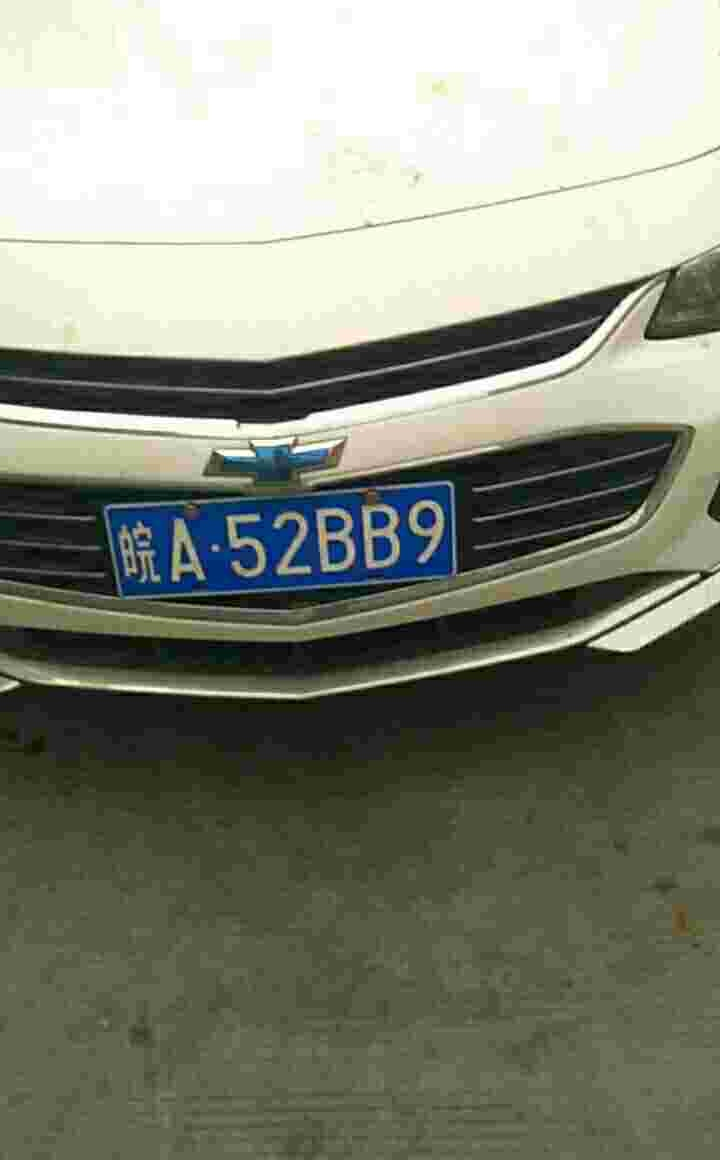license_plate: (104, 486, 457, 604)
